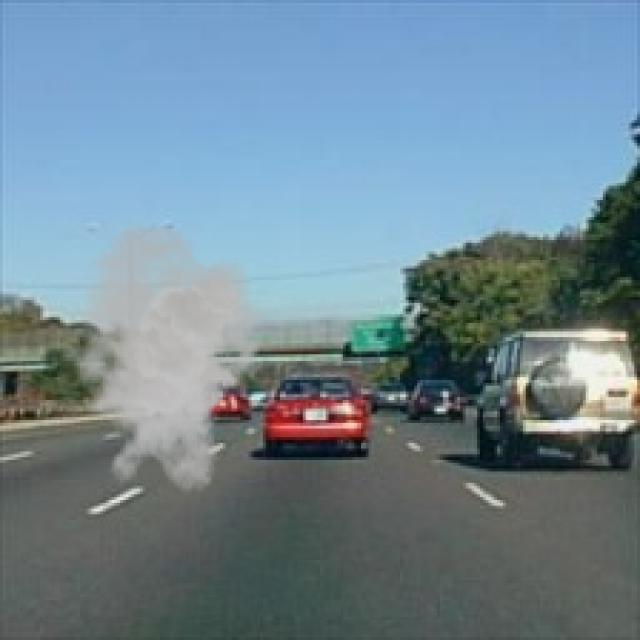smoke: (52, 223, 268, 494)
